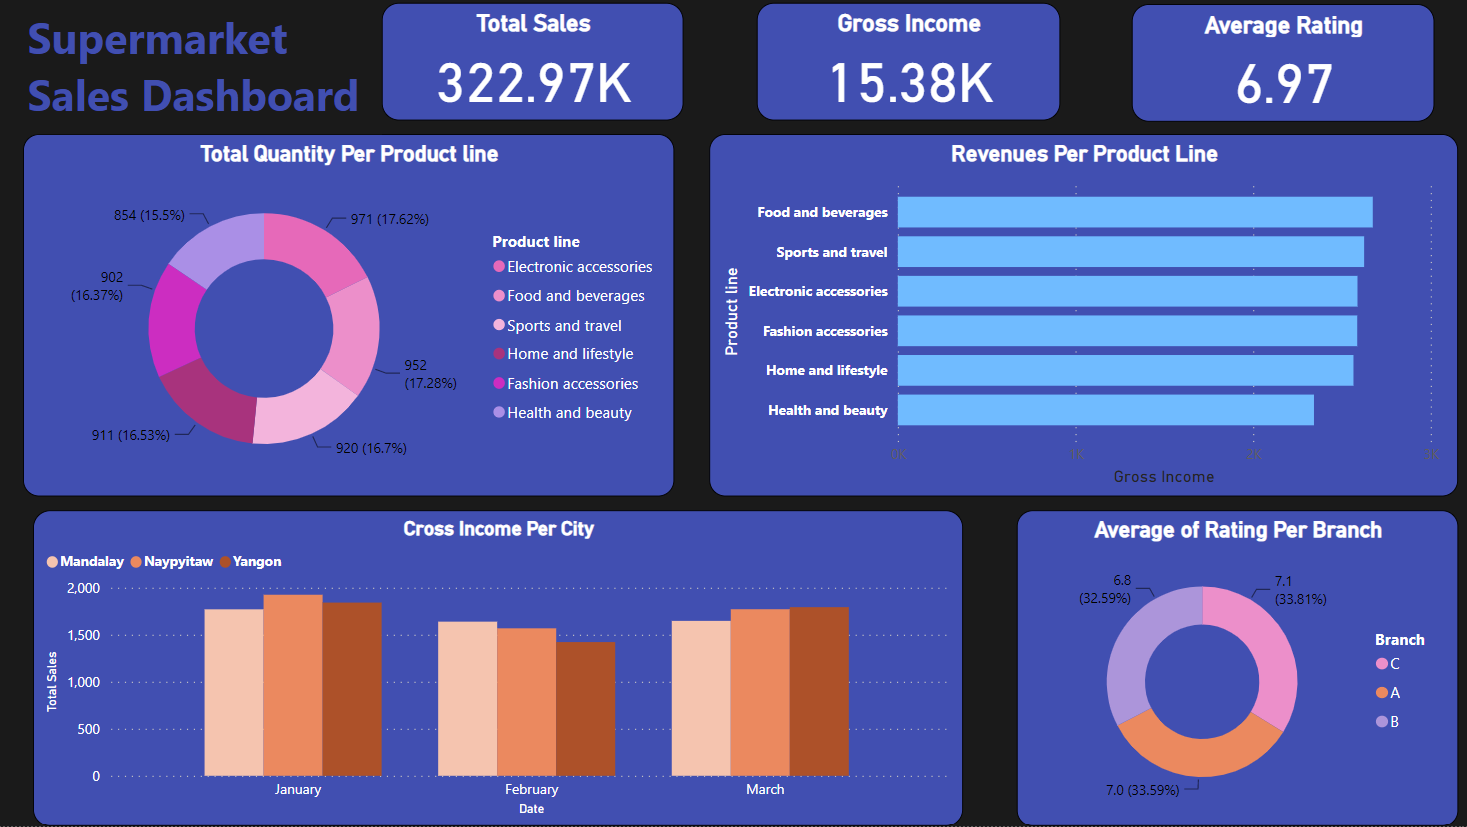

Layout of this report page (visuals, bound fields, positions):
{"tool":"powerbi","page":{"name":"Sales 2","canvas":[1280,720],"ordinal":1},"visuals":[{"type":"donutChart","title":"Total Quantity Per Product line","fields":{"Category":["supermarket_sales - Sheet1.Product line"],"Y":["Sum(supermarket_sales - Sheet1.Quantity)"]},"box":[21.2,117.5,566.2,315],"z":0},{"type":"clusteredBarChart","title":"Revenues Per Product Line","fields":{"Y":["Sum(supermarket_sales - Sheet1.gross income)"],"Category":["supermarket_sales - Sheet1.Product line"]},"box":[618.8,117.5,651.2,315],"z":1000},{"type":"donutChart","title":"Average of Rating Per Branch","fields":{"Category":["supermarket_sales - Sheet1.Branch"],"Y":["Avg(supermarket_sales - Sheet1.Rating)"]},"box":[886.2,445,383.8,275],"z":2000},{"type":"clusteredColumnChart","title":"Cross Income Per City ","fields":{"Y":["Sum(supermarket_sales - Sheet1.gross income)"],"Series":["supermarket_sales - Sheet1.City"],"Category":["supermarket_sales - Sheet1.Date.Variation.Date Hierarchy.Month"]},"box":[30,445,808.8,275],"z":3000},{"type":"card","title":"Total Sales","fields":{"Values":["Sum(supermarket_sales - Sheet1.Total)"]},"box":[333.8,3.8,262.5,102.5],"z":4000},{"type":"card","title":"Gross Income","fields":{"Values":["Sum(supermarket_sales - Sheet1.gross income)"]},"box":[660,3.8,263.8,102.5],"z":5000},{"type":"card","title":"Average Rating","fields":{"Values":["Avg(supermarket_sales - Sheet1.Rating)"]},"box":[985.8,4.2,263,102.3],"z":6000},{"type":"textbox","box":[20.9,3.3,313.2,114.3],"z":7000}]}

Visuals, with their boxes in screenshot pixels (x1, y1, x2, y2), scaled from the page's 1280x720 canvas onto the 1467x827 screenshot:
"Total Quantity Per Product line" donutChart: <box>24,135,673,497</box>
"Revenues Per Product Line" clusteredBarChart: <box>709,135,1456,497</box>
"Average of Rating Per Branch" donutChart: <box>1016,511,1456,826</box>
"Cross Income Per City " clusteredColumnChart: <box>34,511,961,826</box>
"Total Sales" card: <box>383,4,683,122</box>
"Gross Income" card: <box>756,4,1059,122</box>
"Average Rating" card: <box>1130,5,1431,122</box>
textbox: <box>24,4,383,135</box>
